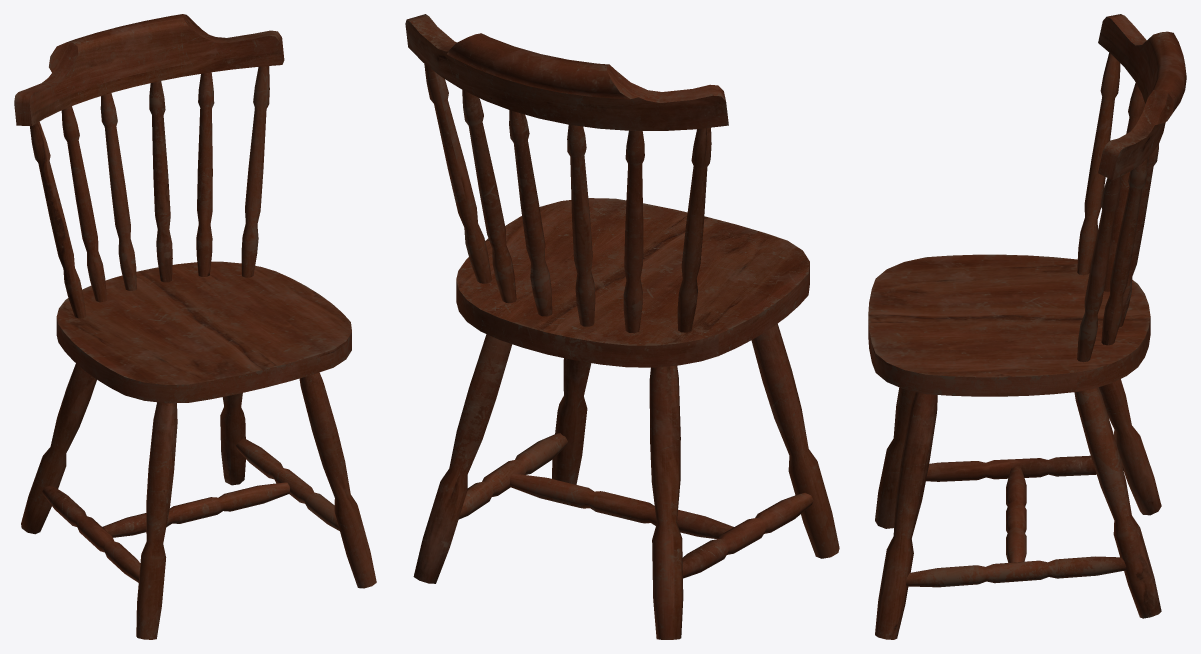
The model's file is rustic_chair.glb.
The picture shows the model from 3 angles, left to right: view 1: azimuth 30°, elevation 25°; view 2: azimuth 150°, elevation 25°; view 3: azimuth 270°, elevation 25°; orthographic projection. The views are drawn at different scales.
Visible parts, largest first — view 1: Object_3; view 2: Object_3; view 3: Object_3.
Boxes of the visible parts, x1,y1,x2,y2 form: Object_3: [14, 14, 376, 639]; Object_3: [405, 14, 839, 639]; Object_3: [868, 14, 1186, 639].
Bounding box in the file's own units: 0.5514 × 0.9624 × 0.533.
Materials: 1 (1 with a texture image).
